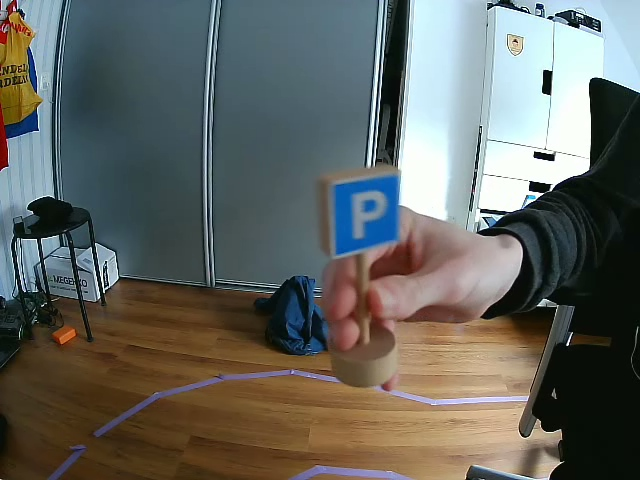parkeerbord: (321, 165, 403, 259)
